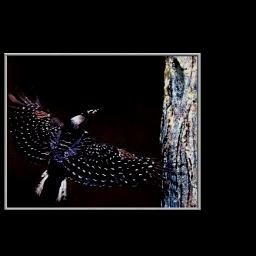Woodpecker: (8, 86, 181, 205)
